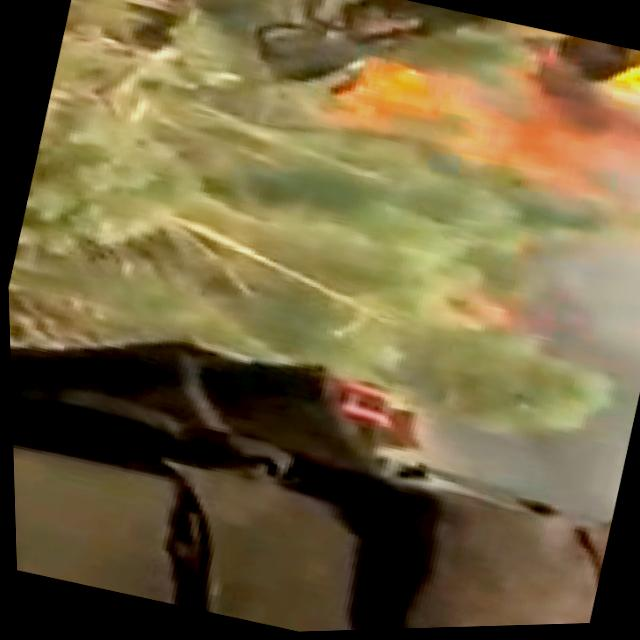fire: (381, 59, 640, 231)
smoke: (498, 242, 640, 468)
